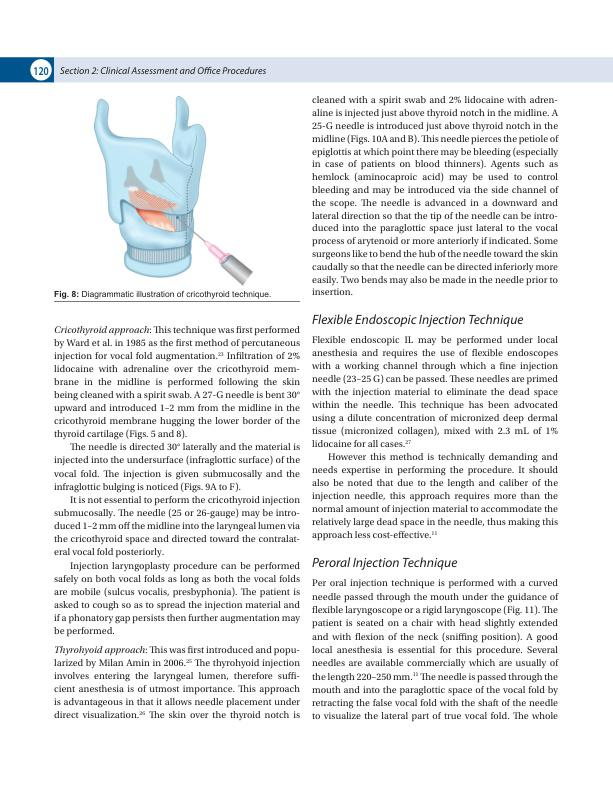caption: (53, 289, 272, 300)
header: (59, 66, 267, 75)
image: (64, 94, 264, 288)
sub-section-heading: (311, 312, 524, 328), (311, 556, 458, 571)
text: (52, 324, 301, 722), (311, 334, 560, 542), (311, 94, 560, 297), (310, 577, 559, 723)
